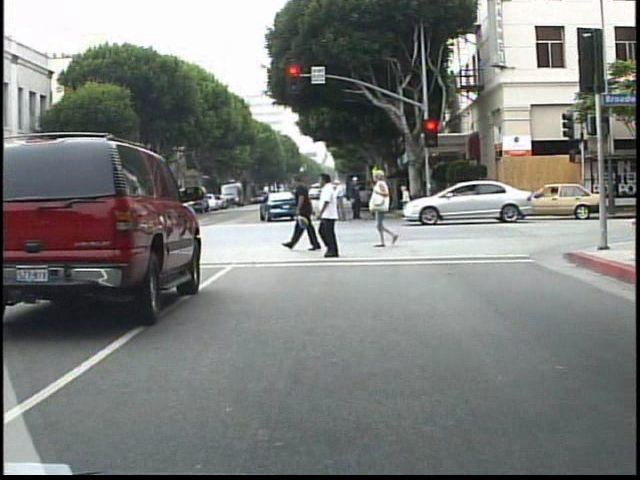person: (315, 170, 353, 258), (368, 168, 401, 250), (291, 169, 320, 257), (330, 175, 351, 223), (471, 169, 492, 215), (346, 174, 363, 221), (321, 180, 340, 222), (149, 183, 165, 232), (371, 179, 389, 222), (3, 195, 21, 238), (123, 184, 140, 229), (4, 199, 19, 236)
